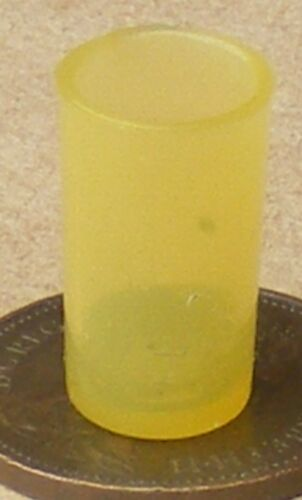plastic_glass: (53, 21, 283, 444)
